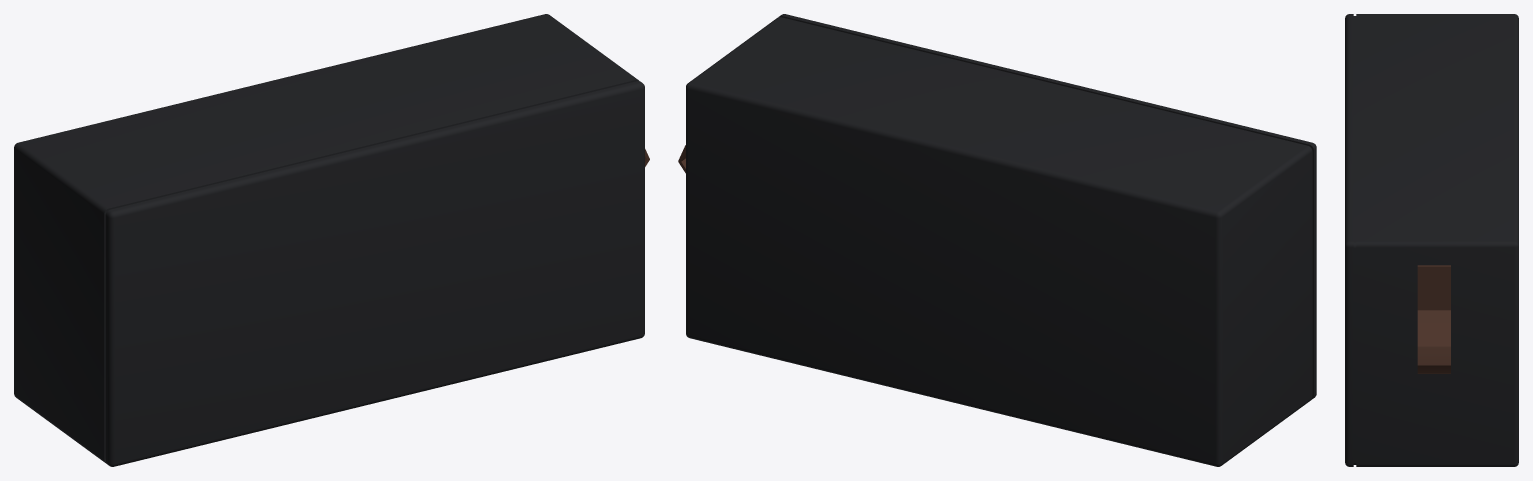
File: speaker__2db67686cd88.glb
The picture shows the model from 3 angles, left to right: view 1: azimuth 30°, elevation 25°; view 2: azimuth 150°, elevation 25°; view 3: azimuth 270°, elevation 25°; orthographic projection. The views are drawn at different scales.
Parts seen in each view (by area): view 1: case_skin; view 2: case_skin; view 3: case_skin, loop_outer.
Boxes of the visible parts, x1,y1,x2,y2 form: case_skin: (14,14,644,466); case_skin: (686,14,1316,466); case_skin: (1345,14,1518,466); loop_outer: (1417,265,1450,373).
Bounding box in the file's own units: 0.2501 × 0.1051 × 0.0736.
